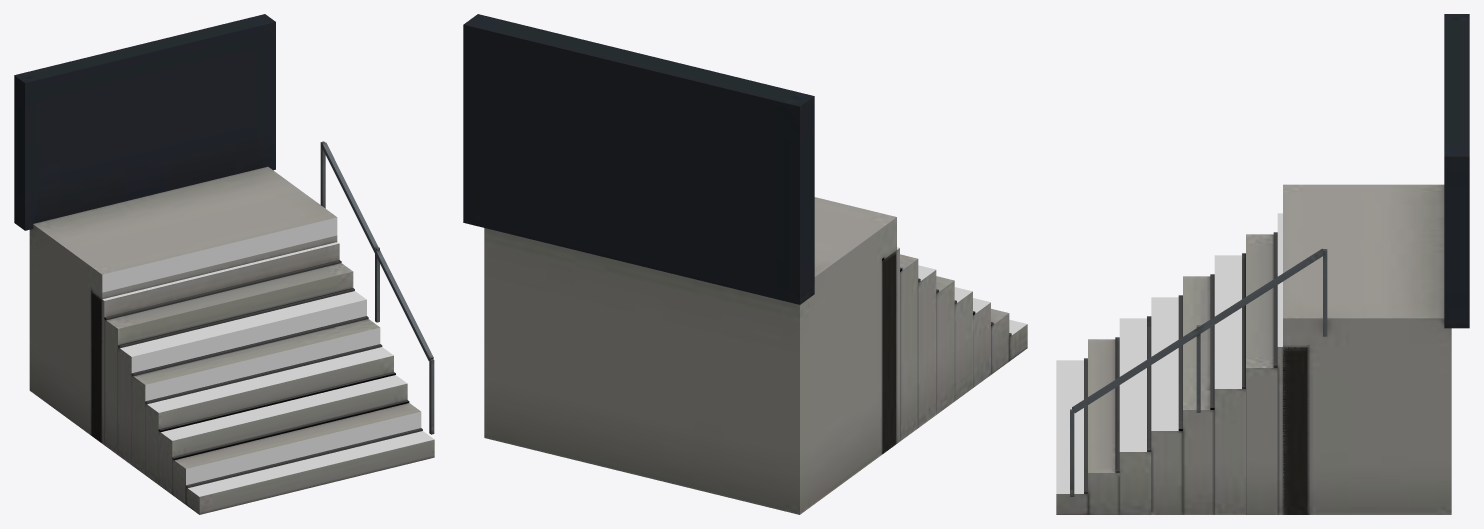
The model's file is stairs.glb.
3 renders of one model, left to right at view 1: azimuth 30°, elevation 25°; view 2: azimuth 150°, elevation 25°; view 3: azimuth 270°, elevation 25°, orthographic. The views are drawn at different scales.
Visible parts, largest first — view 1: Stairs, COL_Step_5, COL_Landing, COL_Step_4, COL_Step_1, COL_Step_3, COL_Step_0, COL_Step_2, COL_Step_7; view 2: Stairs; view 3: Stairs, COL_Step_3, COL_Step_2, COL_Step_5, COL_Step_0, COL_Step_7.
Part boxes in pixels (x1=…): Stairs: x1=14, y1=14, x2=434, y2=514; COL_Step_5: x1=120, y1=291, x2=366, y2=373; COL_Landing: x1=102, y1=217, x2=337, y2=292; COL_Step_4: x1=145, y1=327, x2=380, y2=401; COL_Step_1: x1=186, y1=411, x2=421, y2=485; COL_Step_3: x1=147, y1=347, x2=393, y2=412; COL_Step_0: x1=188, y1=431, x2=434, y2=496; COL_Step_2: x1=161, y1=375, x2=407, y2=440; COL_Step_7: x1=102, y1=242, x2=339, y2=300; Stairs: x1=463, y1=14, x2=1027, y2=514; Stairs: x1=1056, y1=14, x2=1469, y2=514; COL_Step_3: x1=1151, y1=297, x2=1178, y2=430; COL_Step_2: x1=1119, y1=318, x2=1146, y2=451; COL_Step_5: x1=1214, y1=255, x2=1241, y2=388; COL_Step_0: x1=1056, y1=360, x2=1083, y2=493; COL_Step_7: x1=1277, y1=213, x2=1282, y2=346.
Bounding box in the file's own units: 3.2 × 3.8 × 3.92.
4 materials, 4 textured.
